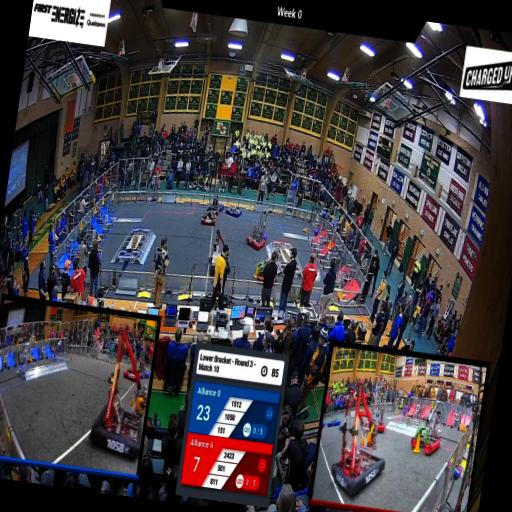robot: (206, 228, 236, 278), (243, 207, 273, 256), (254, 250, 282, 286), (206, 183, 228, 217), (198, 202, 220, 232), (225, 196, 244, 222)
